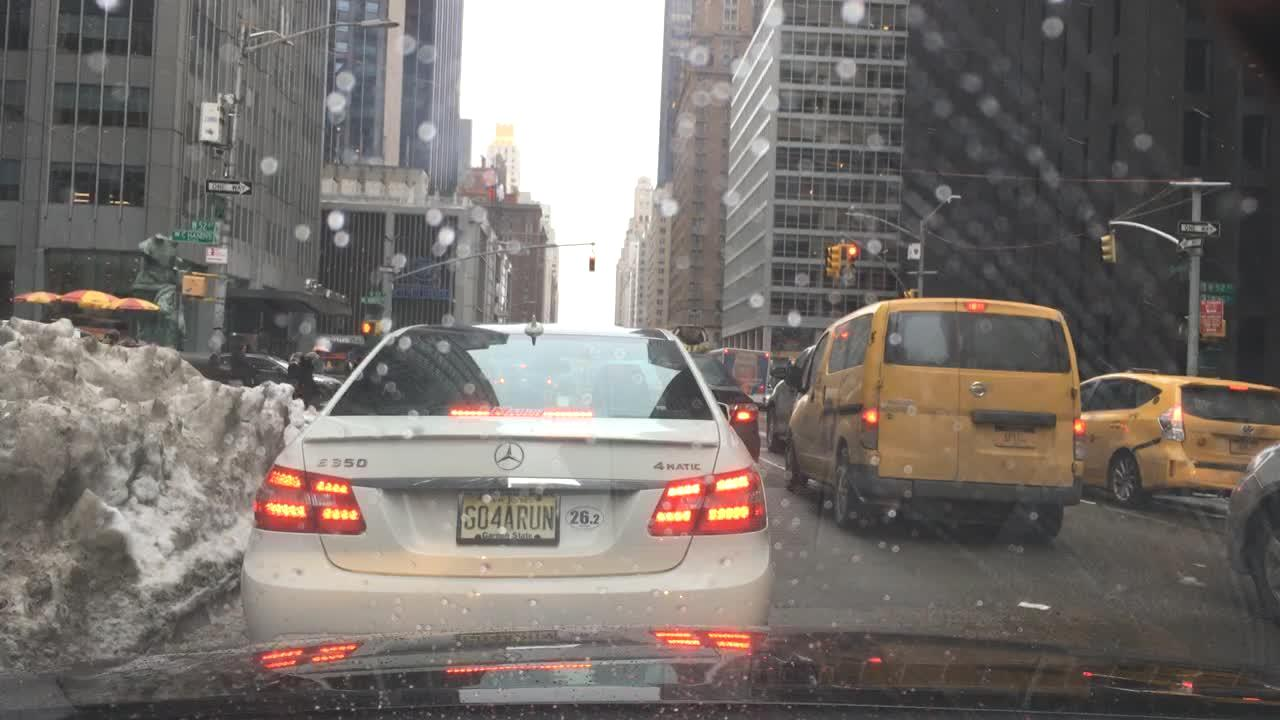Mercedes: (480, 431, 531, 475)
